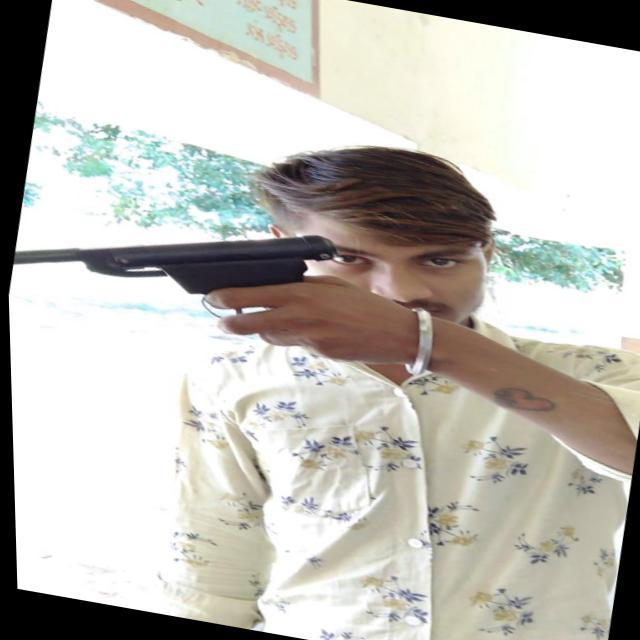weapon: (4, 178, 368, 353)
